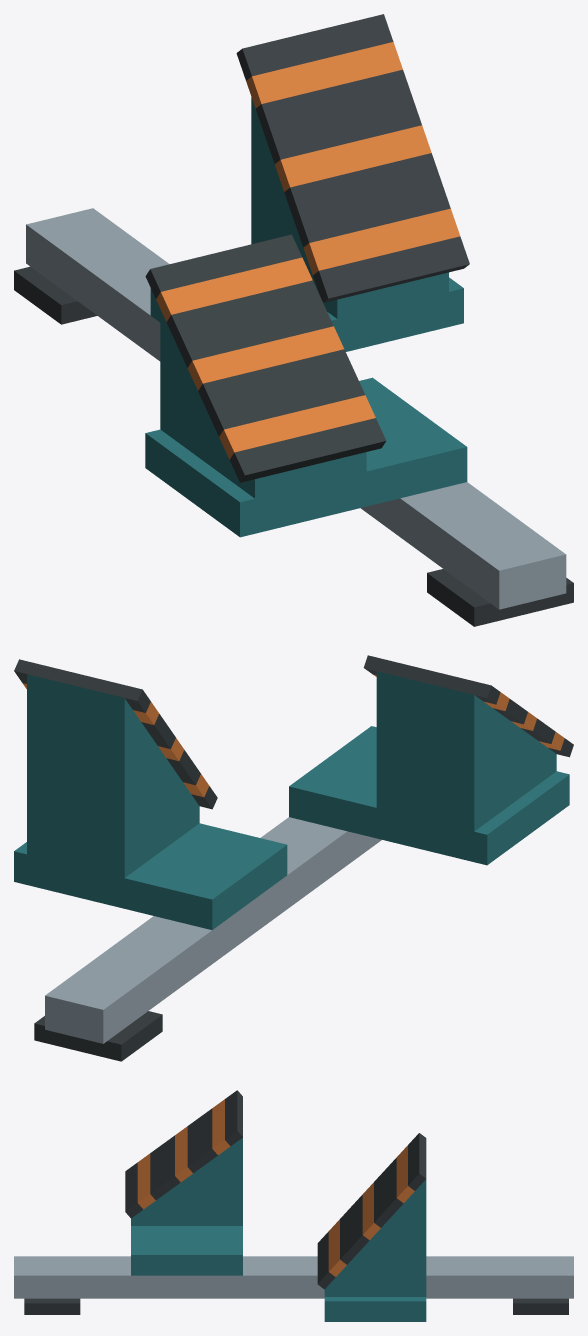
The picture shows the model from 3 angles, top to bottom: view 1: azimuth 30°, elevation 25°; view 2: azimuth 150°, elevation 25°; view 3: azimuth 270°, elevation 25°; orthographic projection. The views are drawn at different scales.
Parts seen in each view (by area): view 1: RightInclinedBandedPedal, LeftInclinedBandedPedal, ContinuousCentreRail, LeftLateralSaddle, LeftWholeWedgeSupport, RightWholeWedgeSupport, RightLateralSaddle, FrontFullGroundPad, RearFullGroundPad; view 2: RightWholeWedgeSupport, LeftWholeWedgeSupport, ContinuousCentreRail, RightLateralSaddle, LeftLateralSaddle, RightInclinedBandedPedal, LeftInclinedBandedPedal, RearFullGroundPad; view 3: ContinuousCentreRail, RightWholeWedgeSupport, LeftInclinedBandedPedal, RightInclinedBandedPedal, LeftLateralSaddle, LeftWholeWedgeSupport, RightLateralSaddle, FrontFullGroundPad, RearFullGroundPad.
Boxes of the visible parts, box(x1,y1,x2,y2) form: RightInclinedBandedPedal: box(236, 14, 469, 302); LeftInclinedBandedPedal: box(145, 234, 386, 482); ContinuousCentreRail: box(26, 208, 566, 609); LeftLateralSaddle: box(145, 377, 467, 537); LeftWholeWedgeSupport: box(160, 309, 366, 498); RightWholeWedgeSupport: box(251, 97, 448, 318); RightLateralSaddle: box(150, 277, 463, 351); FrontFullGroundPad: box(427, 569, 573, 626); RearFullGroundPad: box(14, 266, 97, 324); RightWholeWedgeSupport: box(27, 674, 199, 877); LeftWholeWedgeSupport: box(376, 671, 556, 831); ContinuousCentreRail: box(45, 817, 381, 1043); RightLateralSaddle: box(14, 823, 287, 929); LeftLateralSaddle: box(289, 726, 569, 865); RightInclinedBandedPedal: box(14, 659, 217, 809); LeftInclinedBandedPedal: box(363, 655, 573, 757); RearFullGroundPad: box(34, 1011, 162, 1061); ContinuousCentreRail: box(14, 1256, 573, 1298); RightWholeWedgeSupport: box(324, 1179, 426, 1296); LeftInclinedBandedPedal: box(125, 1090, 242, 1218); RightInclinedBandedPedal: box(317, 1133, 426, 1289); LeftLateralSaddle: box(131, 1226, 242, 1275); LeftWholeWedgeSupport: box(131, 1138, 242, 1225); RightLateralSaddle: box(324, 1297, 426, 1321); FrontFullGroundPad: box(24, 1298, 80, 1314); RearFullGroundPad: box(513, 1298, 568, 1314).
Size of the model in its own units: 0.52 by 0.3965 by 1.1.
